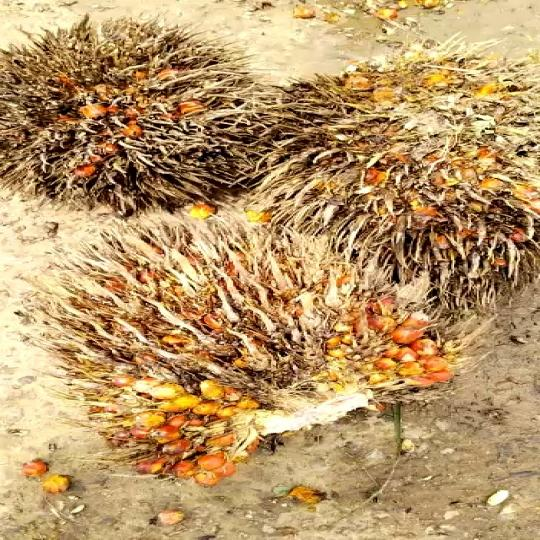terlalu masak: (31, 203, 457, 483), (283, 69, 540, 308), (0, 31, 286, 195)
